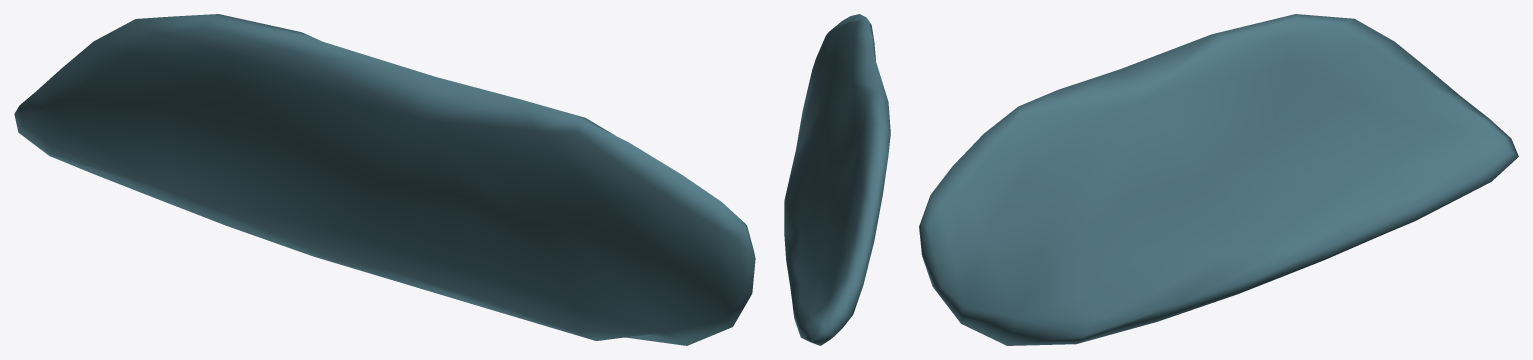
File: Omohyoid_hyoid_bone_right.glb
3 views of the same model, side by side, from view 1: azimuth 30°, elevation 25°; view 2: azimuth 150°, elevation 25°; view 3: azimuth 270°, elevation 25° (orthographic). The views are drawn at different scales.
Parts seen in each view (by area): view 1: Omohyoid_muscle_on_hyoid_bone.r_Generated_Mesh_From_X3D.948; view 2: Omohyoid_muscle_on_hyoid_bone.r_Generated_Mesh_From_X3D.948; view 3: Omohyoid_muscle_on_hyoid_bone.r_Generated_Mesh_From_X3D.948.
Boxes of the visible parts, x1=… form: Omohyoid_muscle_on_hyoid_bone.r_Generated_Mesh_From_X3D.948: x1=14, y1=14, x2=755, y2=345; Omohyoid_muscle_on_hyoid_bone.r_Generated_Mesh_From_X3D.948: x1=784, y1=14, x2=890, y2=345; Omohyoid_muscle_on_hyoid_bone.r_Generated_Mesh_From_X3D.948: x1=919, y1=14, x2=1518, y2=345.
Bounding box in the file's own units: 0.00499 × 0.00347 × 0.00826.
